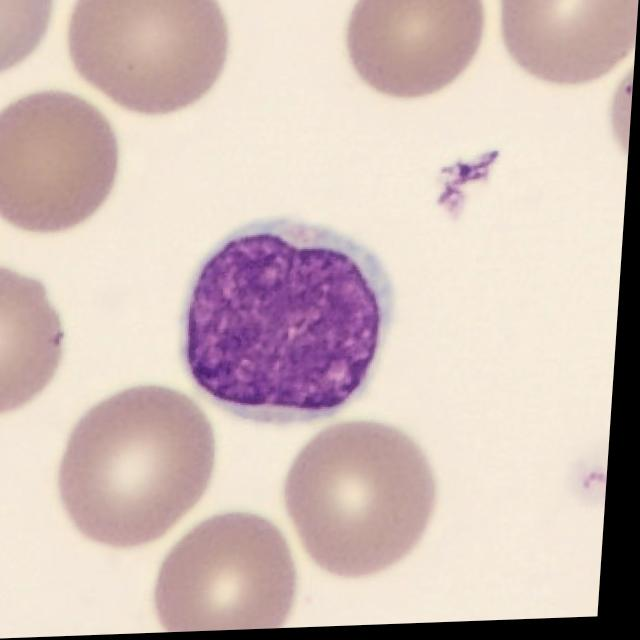Linfocito: (186, 220, 399, 419)
